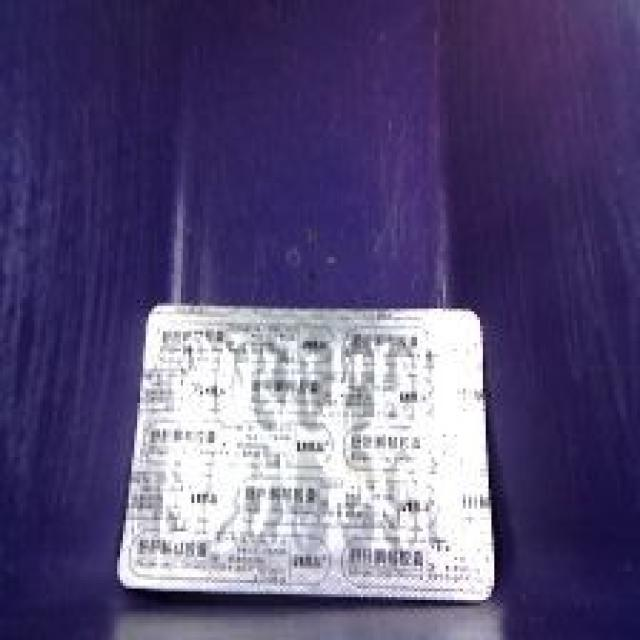med_plate: (96, 282, 511, 612)
